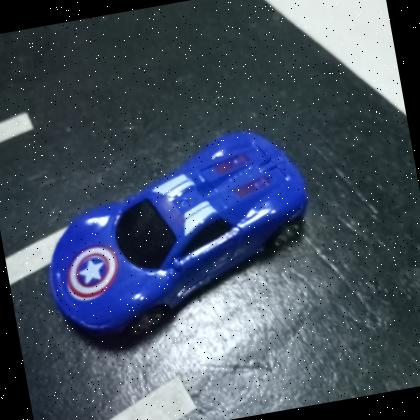Car: (48, 132, 310, 350)
